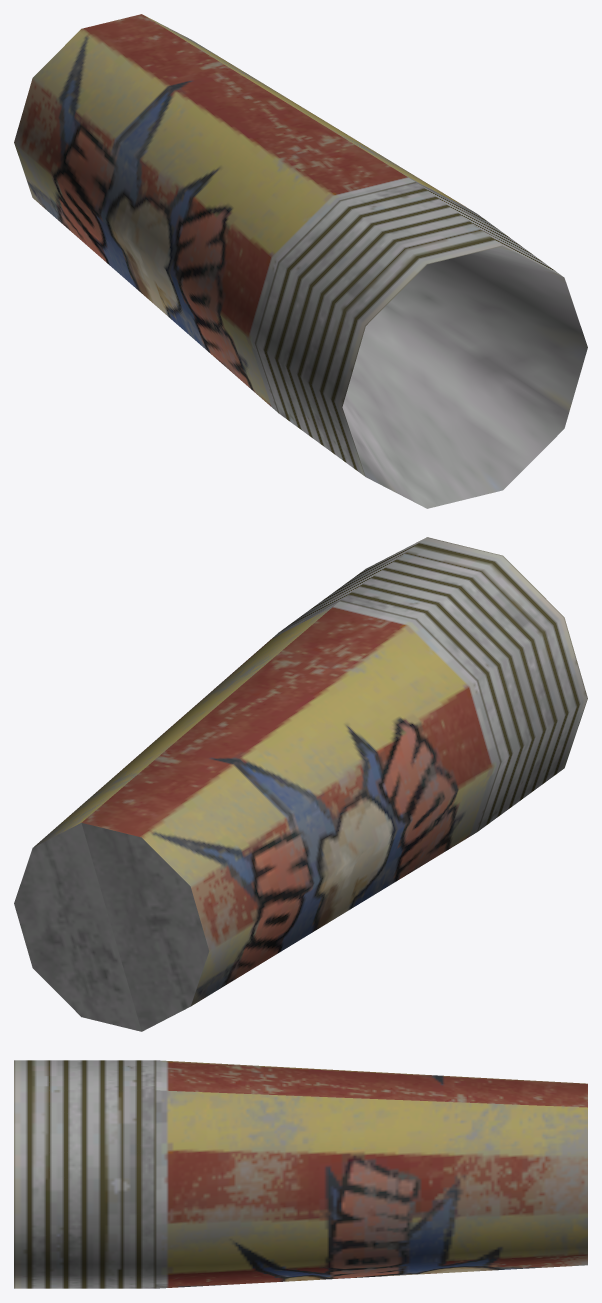
The model's file is popcorn_cup_stack_LOD0.obj.
The picture shows the model from 3 angles, top to bottom: view 1: azimuth 30°, elevation 25°; view 2: azimuth 150°, elevation 25°; view 3: azimuth 270°, elevation 25°; orthographic projection. The views are drawn at different scales.
Visible parts, largest first — view 1: mtl_pocorn_cup; view 2: mtl_pocorn_cup; view 3: mtl_pocorn_cup.
Part boxes in pixels (x1,y1,x2,y2): mtl_pocorn_cup: [14, 14, 587, 508]; mtl_pocorn_cup: [14, 537, 587, 1031]; mtl_pocorn_cup: [14, 1060, 587, 1288].
Bounding box in the file's own units: 13.46 × 12.8 × 33.55.
